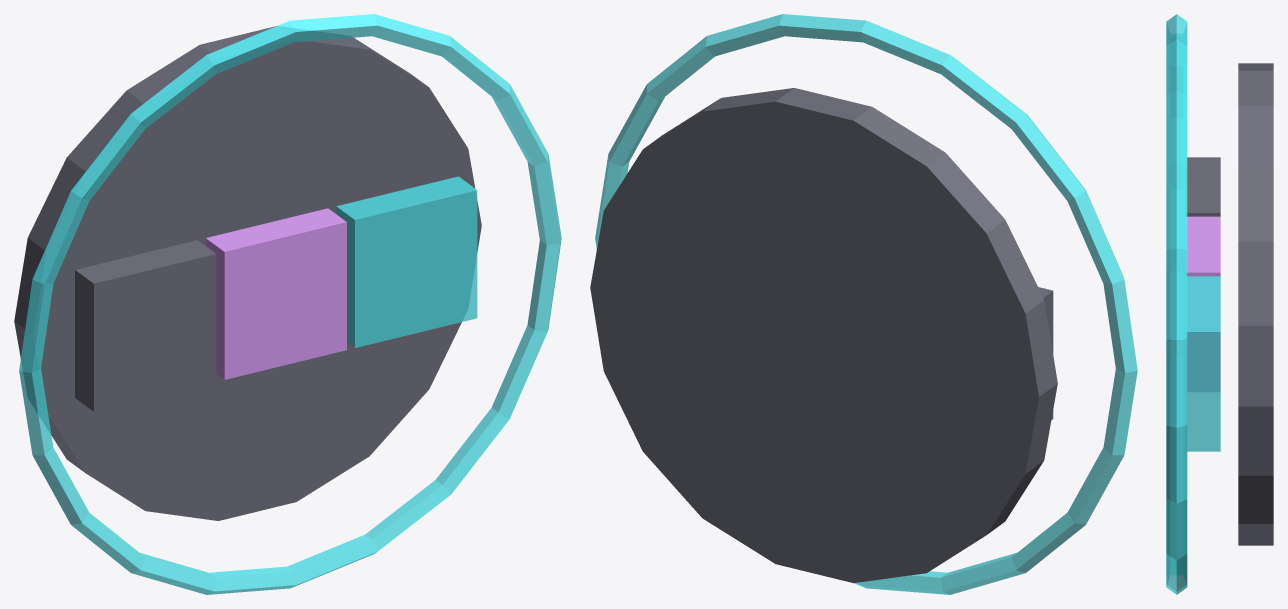
File: 05_biome_recolor_overlay_5.glb
3 views of the same model, side by side, from view 1: azimuth 30°, elevation 25°; view 2: azimuth 150°, elevation 25°; view 3: azimuth 270°, elevation 25° (orthographic). The views are drawn at different scales.
Parts seen in each view (by area): view 1: palette_base, recolor_ring, swatch_base, swatch_accent, swatch_glow; view 2: palette_base, recolor_ring; view 3: palette_base, recolor_ring, swatch_glow, swatch_accent, swatch_base.
Part boxes in pixels (<box>): palette_base: <box>14,26,481,520</box>; recolor_ring: <box>19,14,561,594</box>; swatch_base: <box>75,240,216,411</box>; swatch_accent: <box>205,208,346,379</box>; swatch_glow: <box>336,176,477,347</box>; palette_base: <box>590,88,1057,583</box>; recolor_ring: <box>595,14,1137,594</box>; palette_base: <box>1238,63,1273,545</box>; recolor_ring: <box>1166,14,1187,594</box>; swatch_glow: <box>1187,276,1220,451</box>; swatch_accent: <box>1186,216,1220,391</box>; swatch_base: <box>1186,157,1220,216</box>.
Bounding box in the file's own units: 1.33 × 1.33 × 0.2438.
